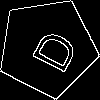D: (22, 22, 80, 76)
